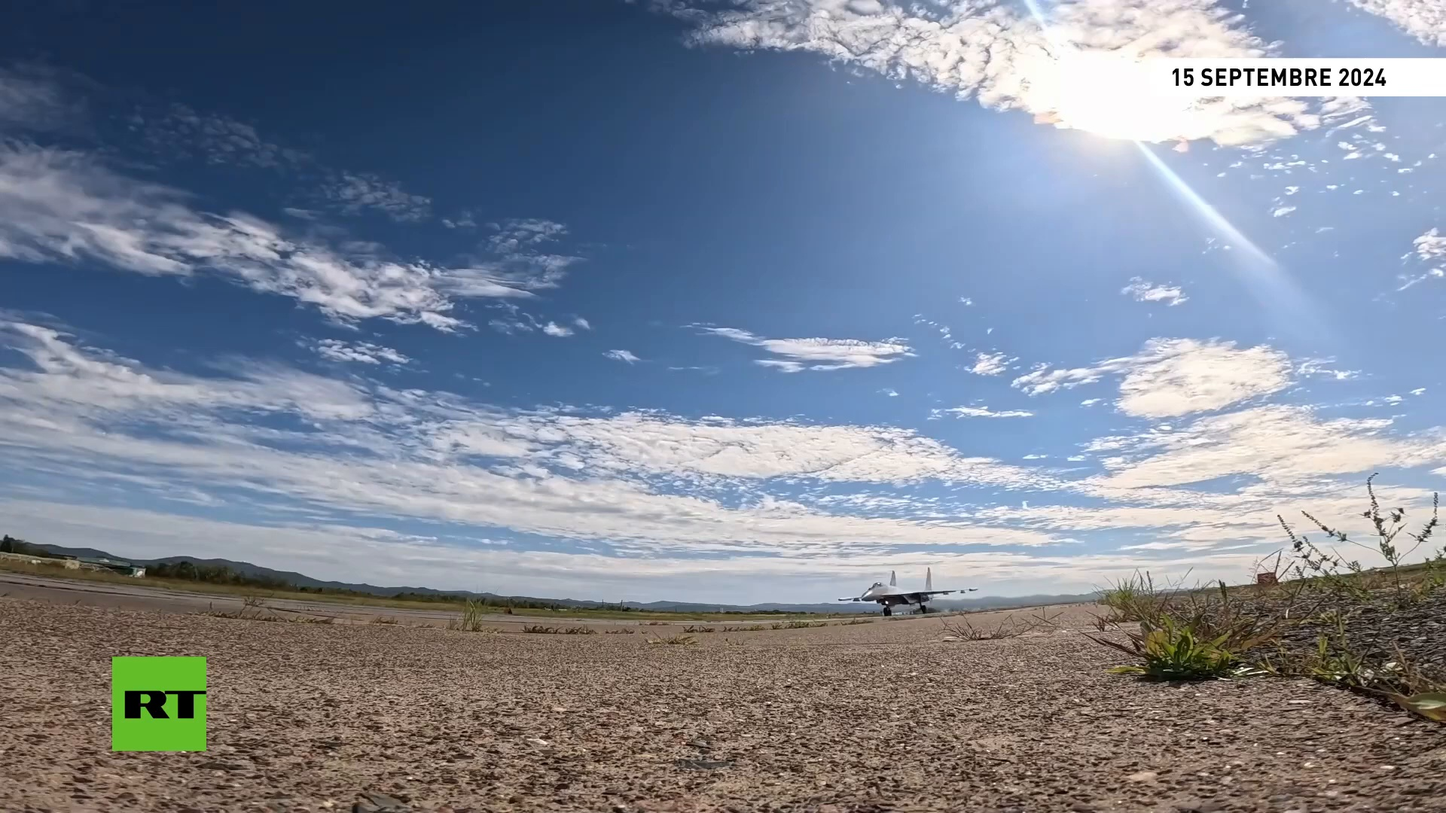Su35: (836, 568, 976, 615)
